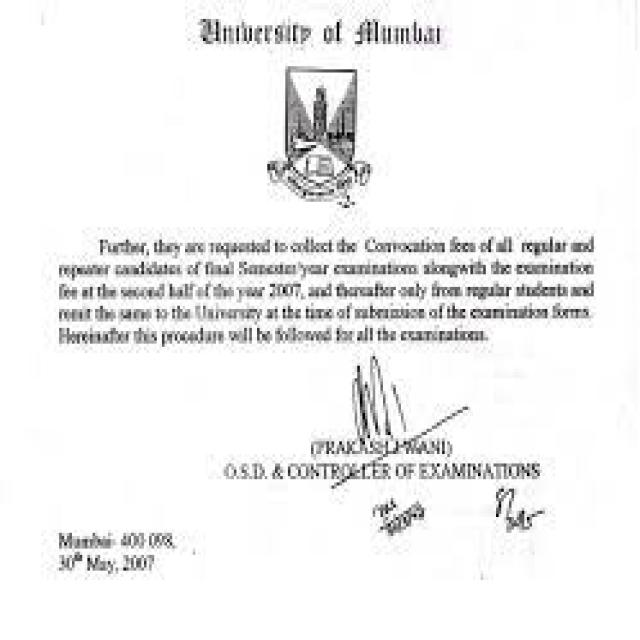signature: (365, 492, 606, 550)
stamp: (235, 59, 392, 220)
